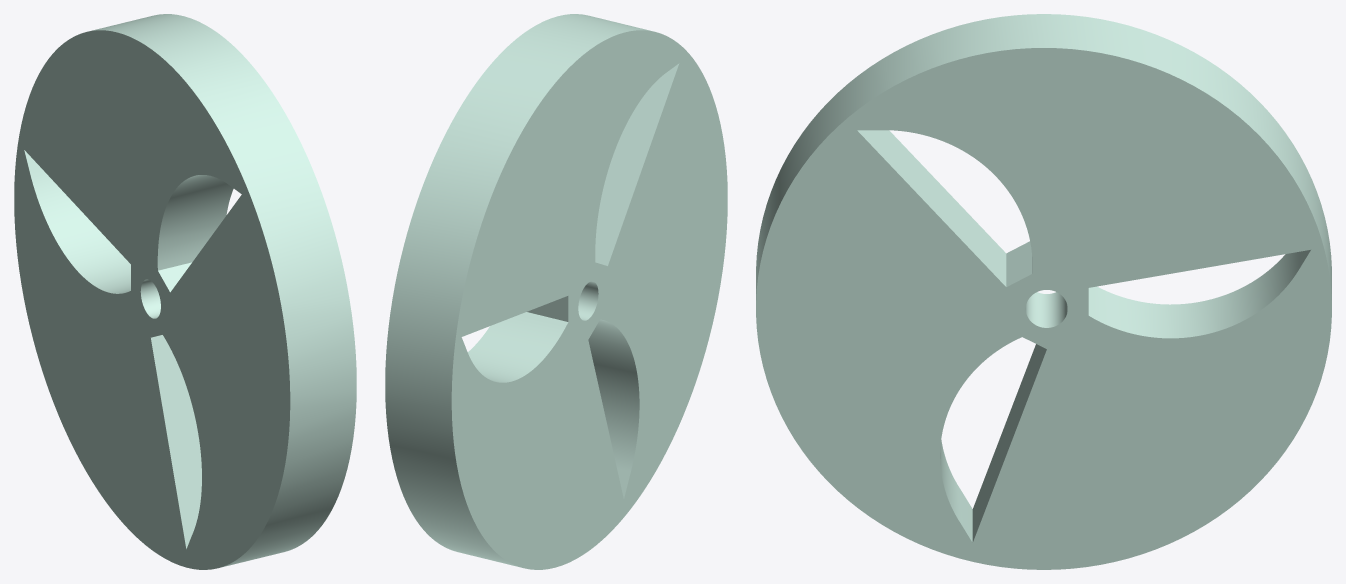
3 renders of one model, left to right at view 1: azimuth 30°, elevation 25°; view 2: azimuth 150°, elevation 25°; view 3: azimuth 270°, elevation 25°, orthographic. The views are drawn at different scales.
Visible parts, largest first — view 1: Renderer Node; view 2: Renderer Node; view 3: Renderer Node.
Boxes of the visible parts, <box> form: Renderer Node: <box>14,14,356,569</box>; Renderer Node: <box>385,14,727,569</box>; Renderer Node: <box>756,14,1331,569</box>.
Size of the model in its own units: 0.2109 by 1.52 by 1.52.
